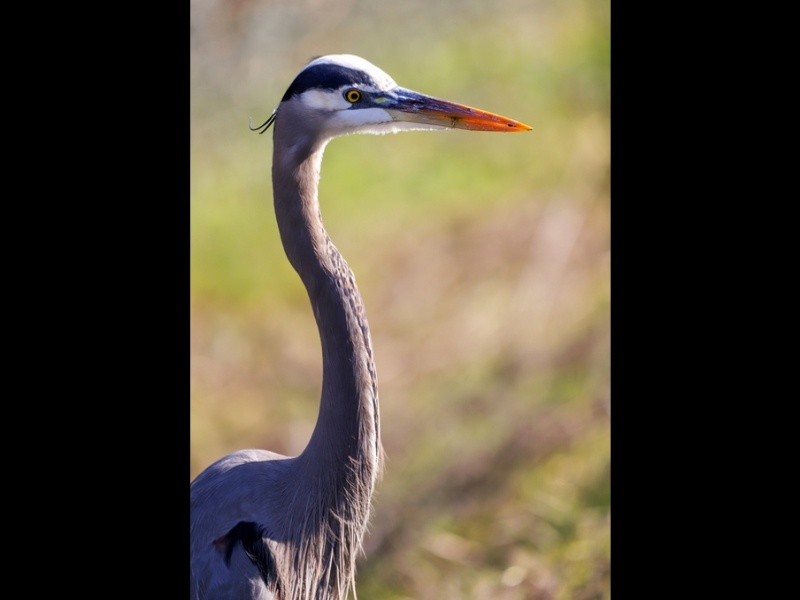heron: (209, 48, 537, 575)
